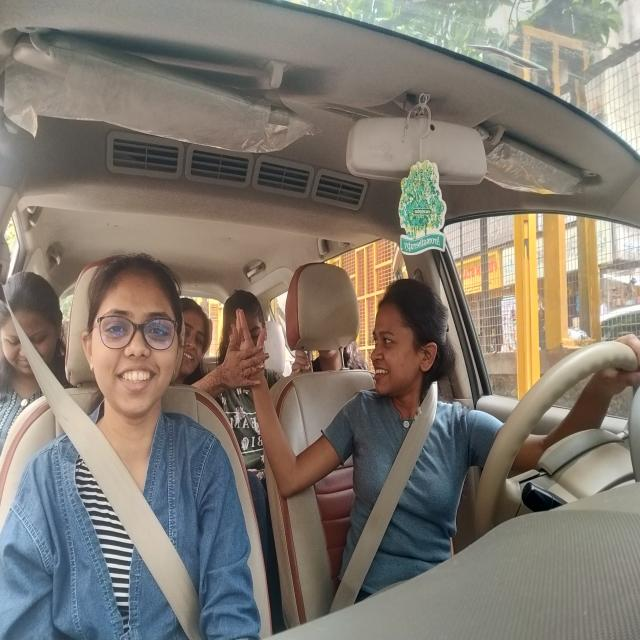LeftRight: (354, 264, 464, 423)
person: (73, 242, 194, 435), (3, 264, 64, 410), (173, 276, 211, 380), (222, 285, 272, 355)
talking: (370, 357, 394, 389)
